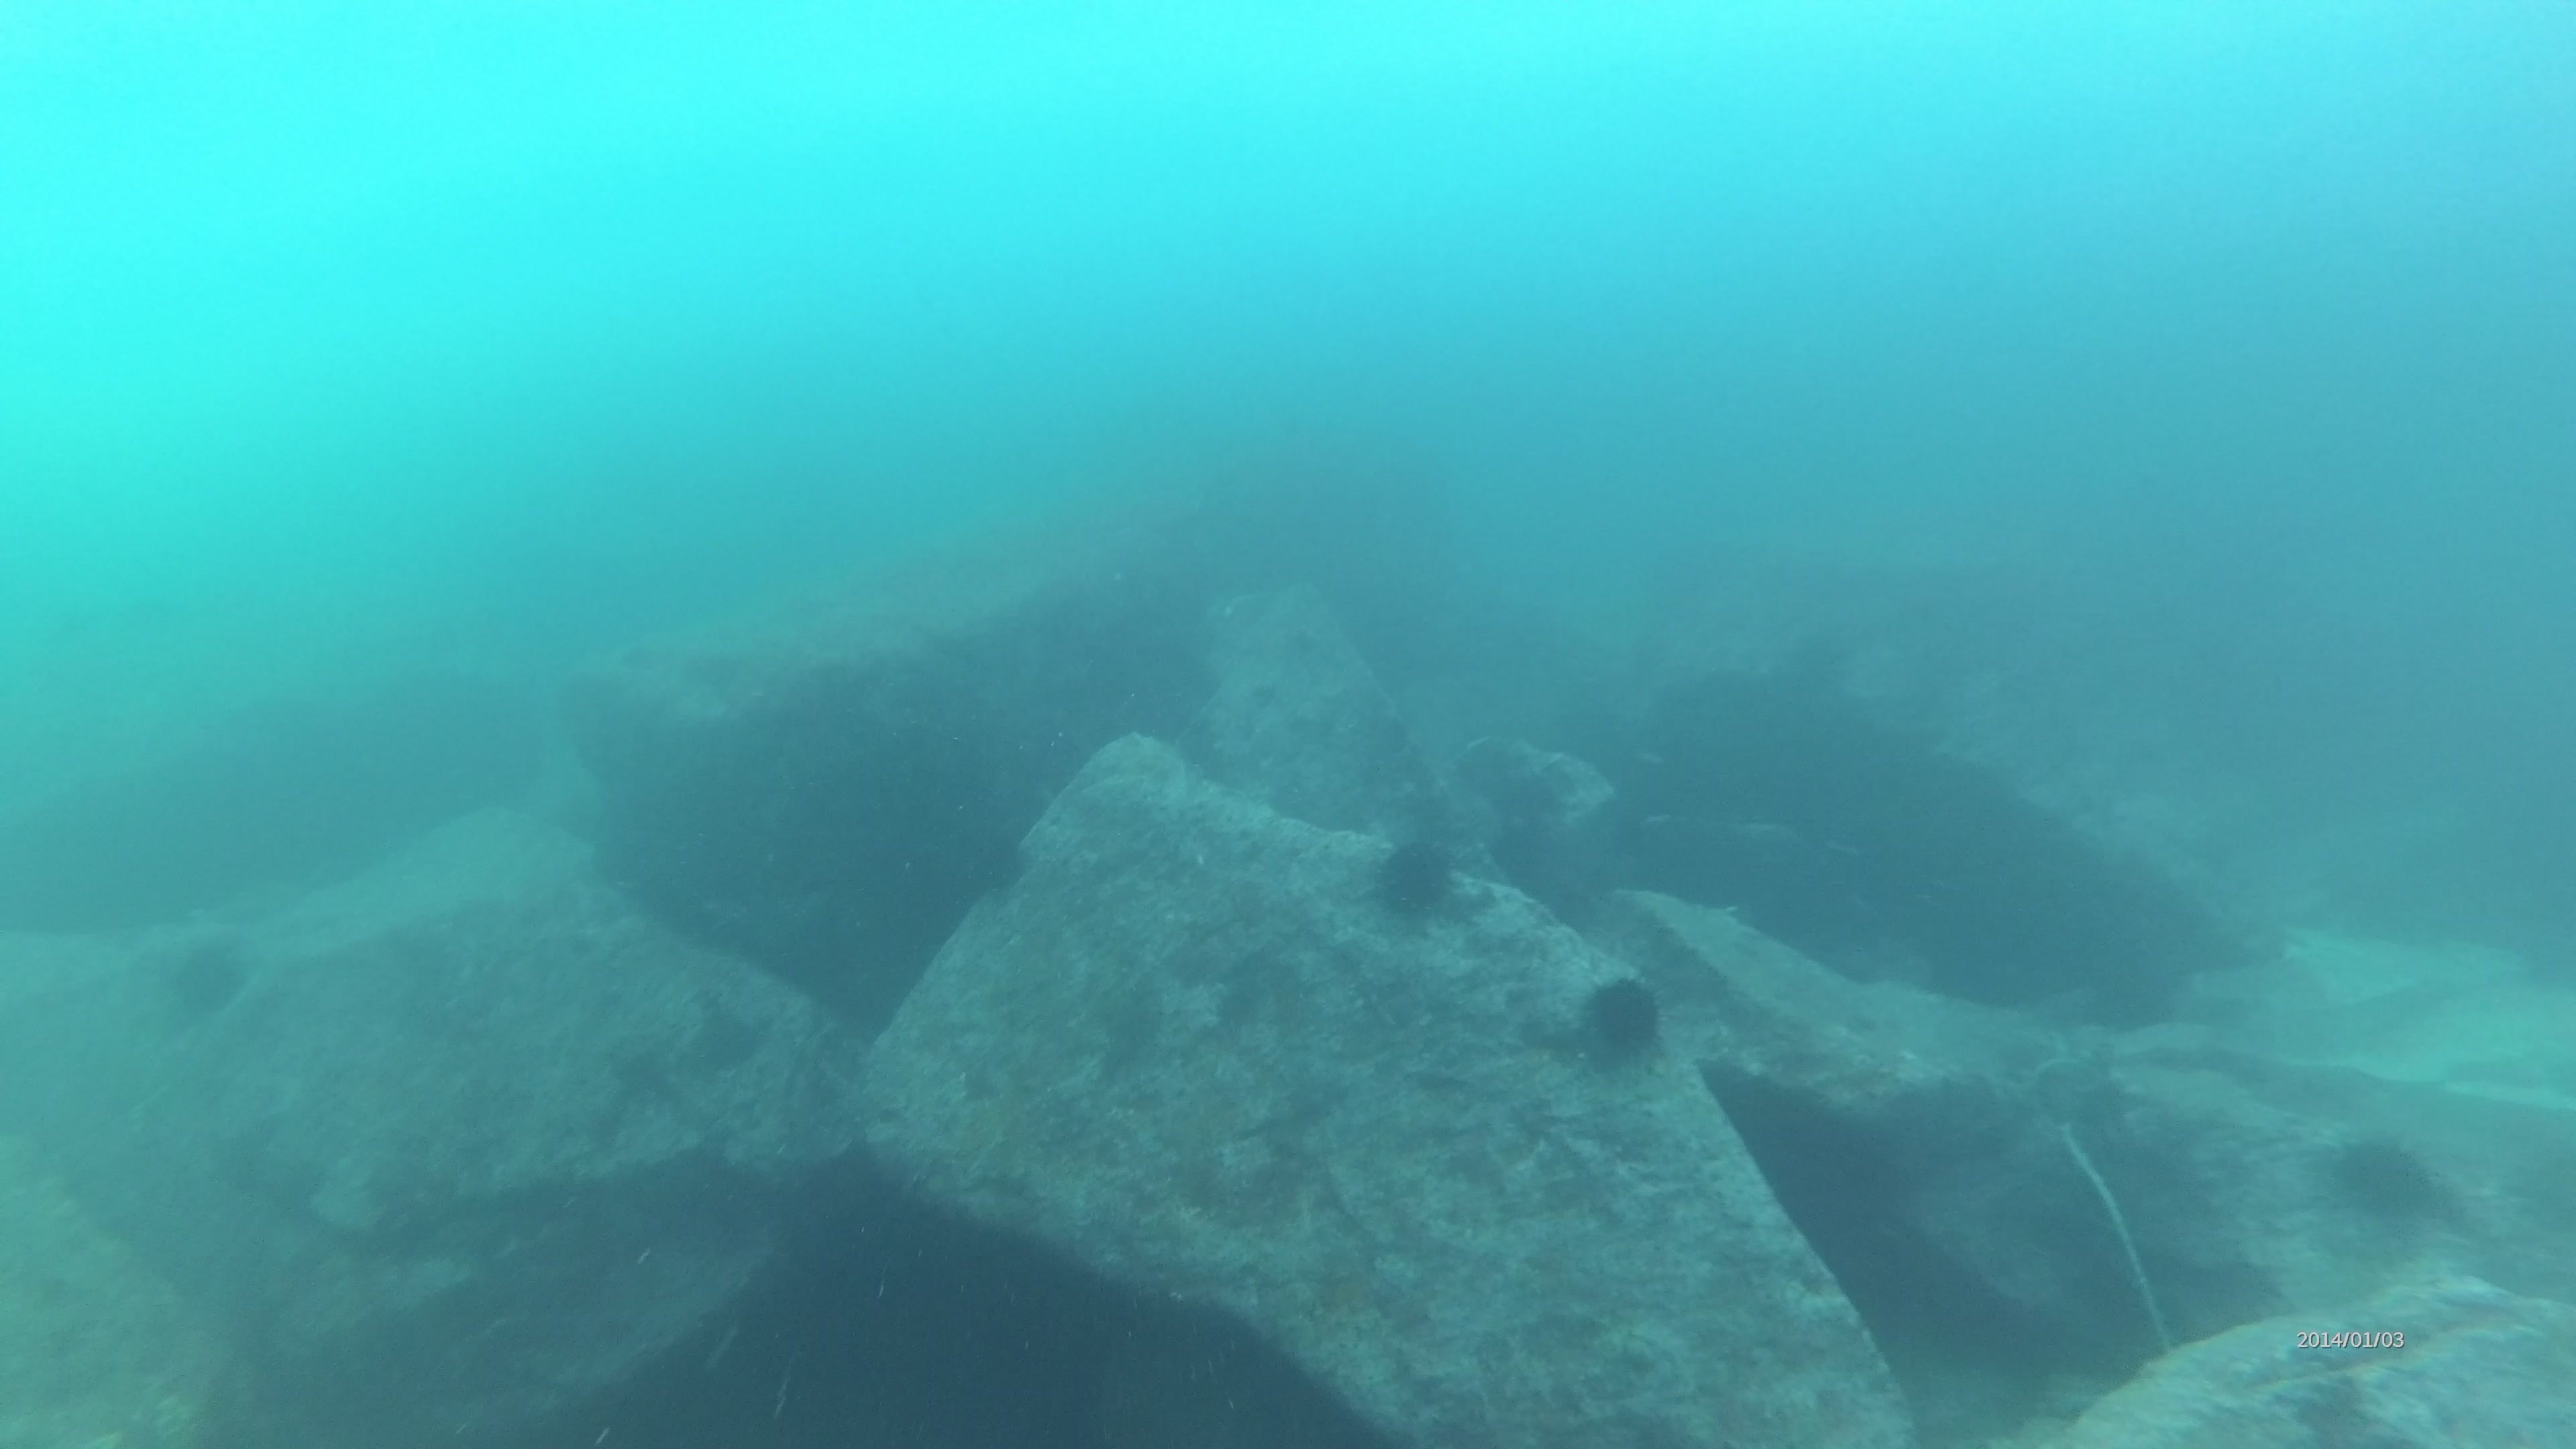echinus: (2318, 1123, 2454, 1237), (1569, 966, 1675, 1076), (1361, 826, 1470, 932), (156, 929, 255, 1028)
